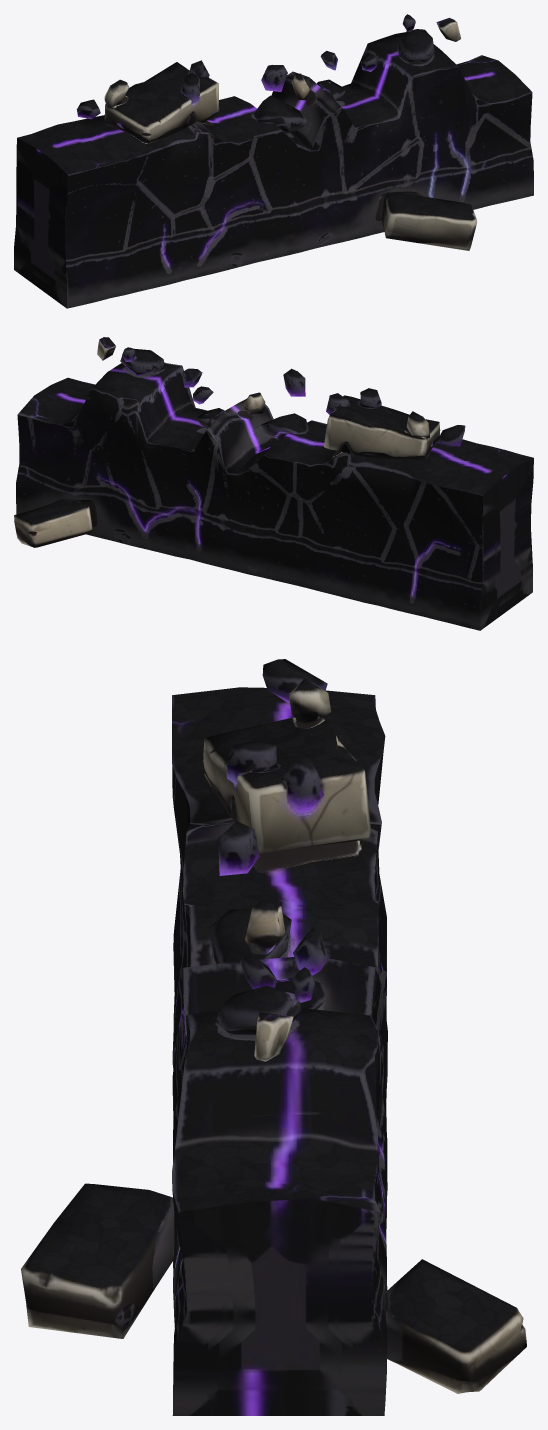
Rendered from abyss_wall_low.glb.
3 renders of one model, top to bottom at view 1: azimuth 30°, elevation 25°; view 2: azimuth 150°, elevation 25°; view 3: azimuth 270°, elevation 25°, orthographic. The views are drawn at different scales.
Visible parts, largest first — view 1: abyss_wall_low; view 2: abyss_wall_low; view 3: abyss_wall_low.
Boxes of the visible parts, bbox=[...] form: abyss_wall_low: bbox=[14, 14, 533, 308]; abyss_wall_low: bbox=[14, 337, 533, 630]; abyss_wall_low: bbox=[21, 659, 526, 1415].
Size of the model in its own units: 4 by 1.53 by 1.89.
1 material, 1 textured.
